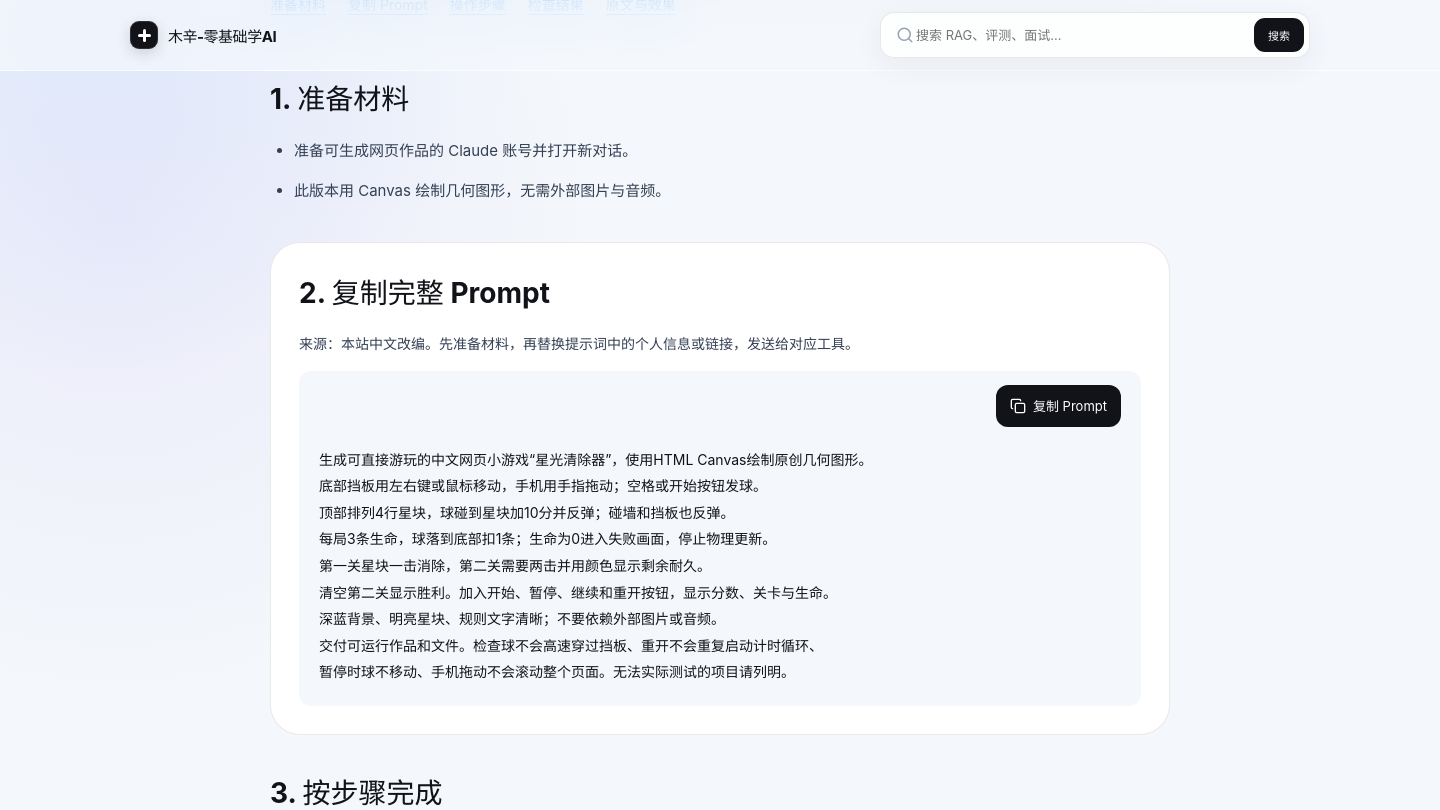
it: 实战教程阅读 › 游戏详情可直接访问，复制失败仍保留全文
(page scrolled)
Click the button with aria-label "复制完整 Prompt" at [1058, 406], box [996,385,1121,427]
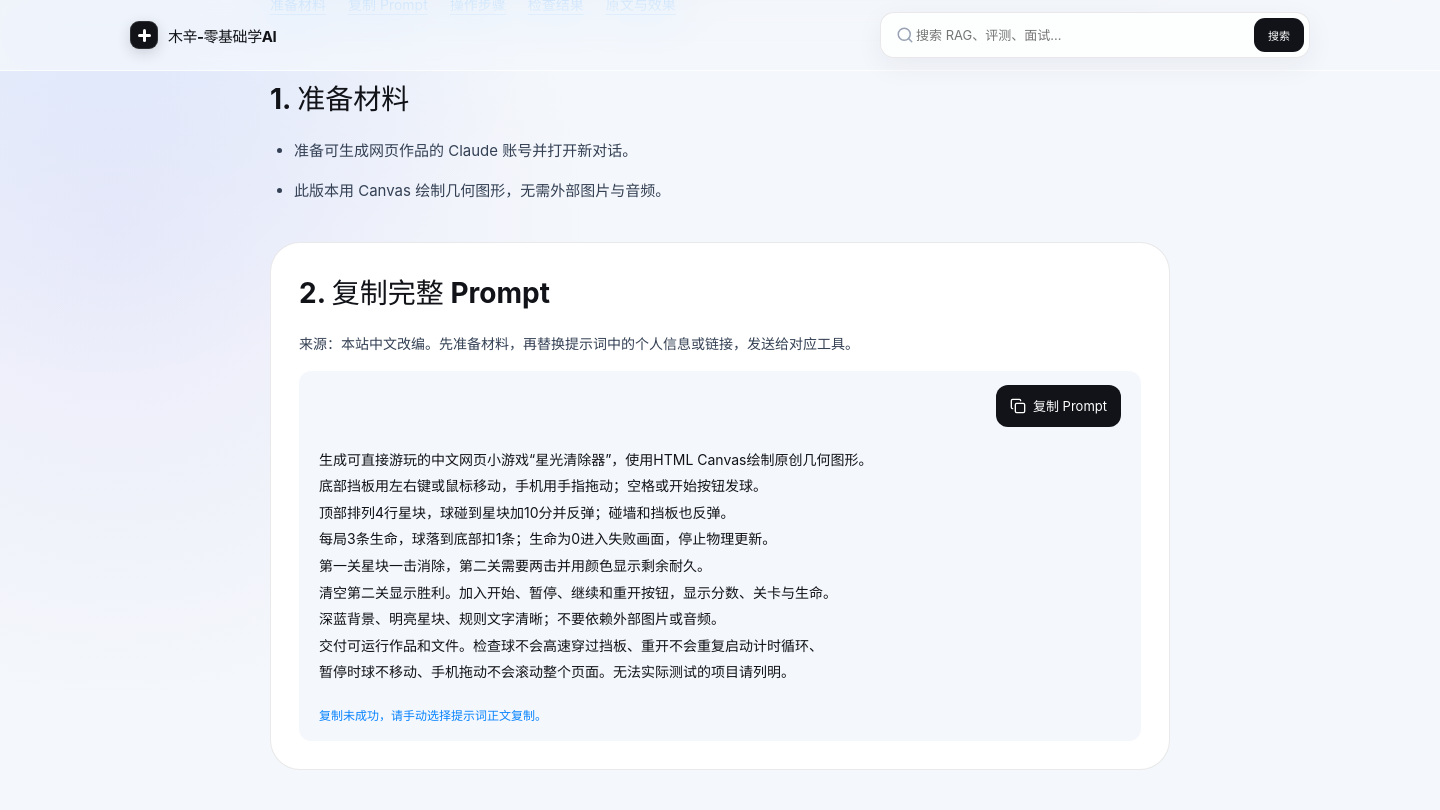
expect the text "生成可直接游玩的中文网页小游戏" is shown: met, box [319,451,872,680]
expect the message shows "请手动选择": met, box [319,708,547,723]
